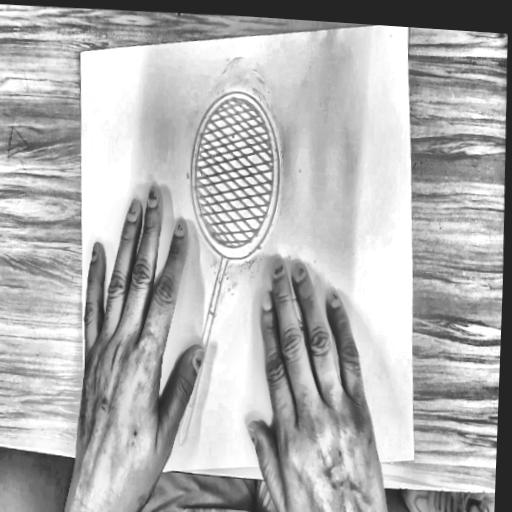badminton: (160, 81, 330, 454)
bottom_left: (88, 457, 96, 470)
bottom_right: (409, 448, 419, 467)
top_left: (76, 45, 87, 61)
